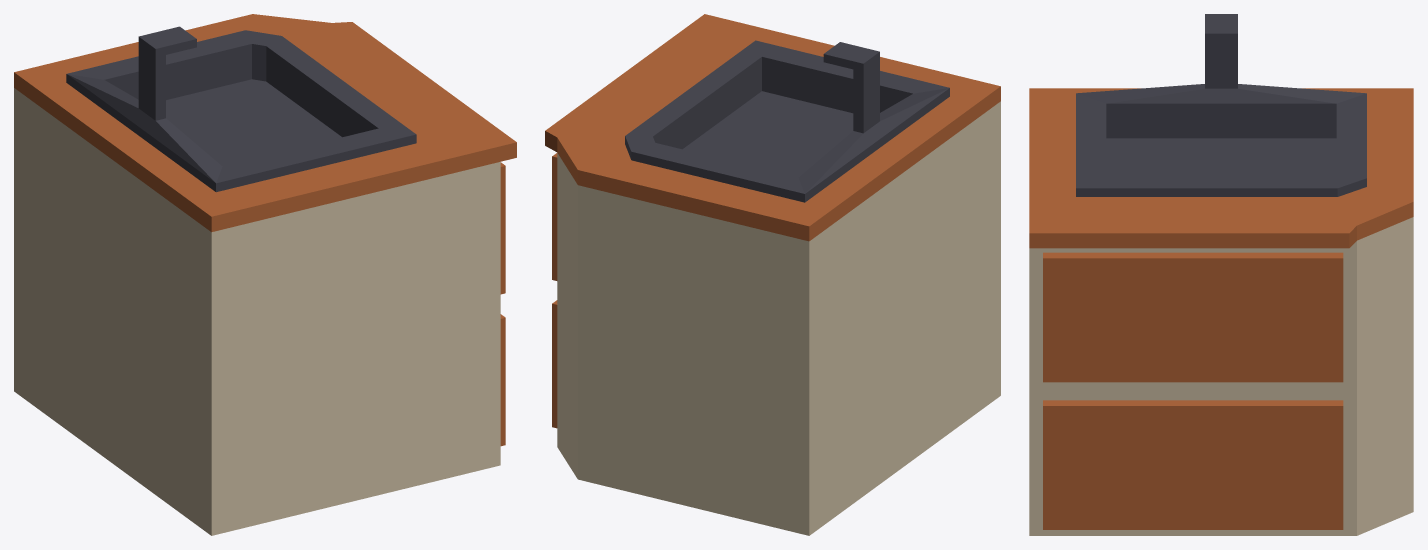
File: MP_Bathroom_Sink.fbx
3 views of the same model, side by side, from view 1: azimuth 30°, elevation 25°; view 2: azimuth 150°, elevation 25°; view 3: azimuth 270°, elevation 25° (orthographic). The views are drawn at different scales.
Parts seen in each view (by area): view 1: Kitchen_Counter_Mesh.001; view 2: Kitchen_Counter_Mesh.001; view 3: Kitchen_Counter_Mesh.001.
Part boxes in pixels (x1,y1,x2,y2): Kitchen_Counter_Mesh.001: (14, 14, 516, 535); Kitchen_Counter_Mesh.001: (545, 14, 1000, 535); Kitchen_Counter_Mesh.001: (1029, 14, 1413, 535).
Bounding box in the file's own units: 66.73 × 86.13 × 74.74.
